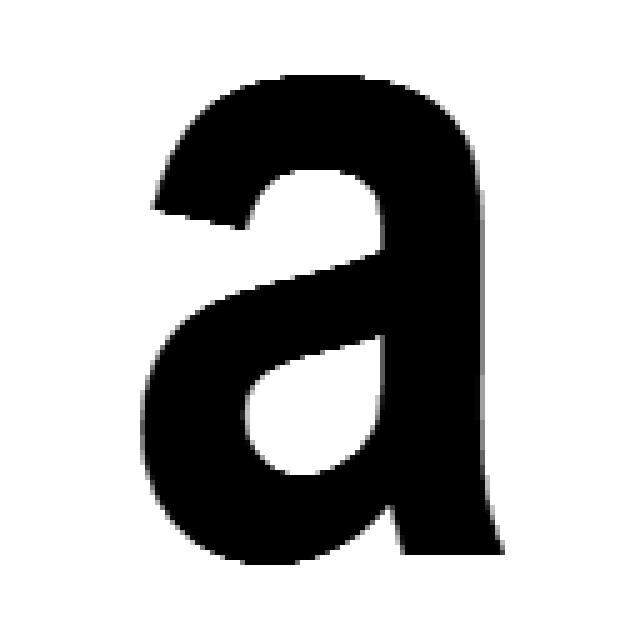A: (125, 60, 515, 570)
